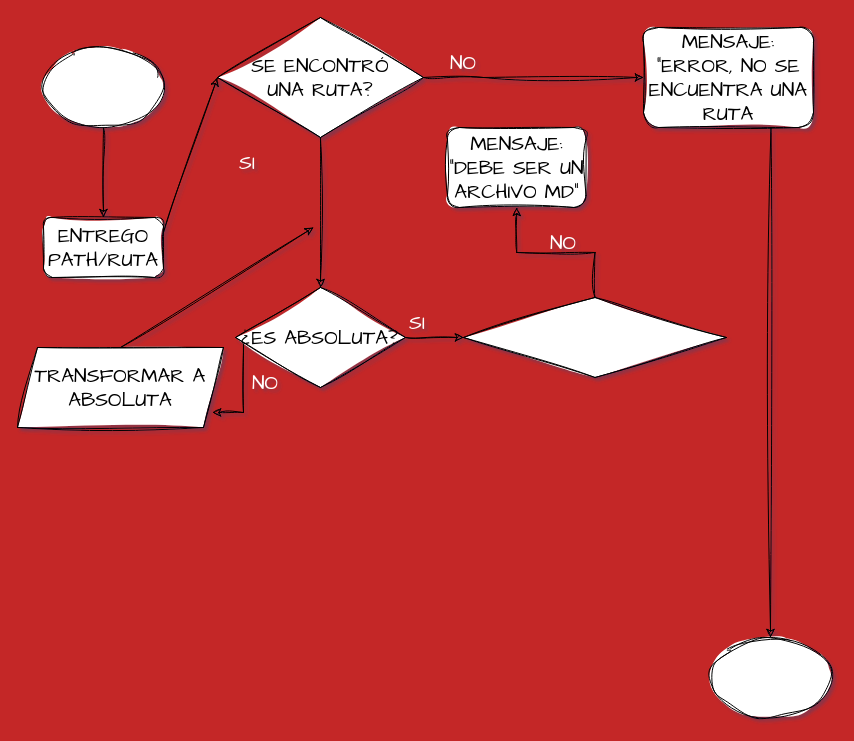
This 854x741 diagram has some shape labels left out. Each missing label, with the centre of its shape:
FIN: [770,677]
INICIO: [103,87]
¿ES UN ARCHIVO MD?: [594,337]
